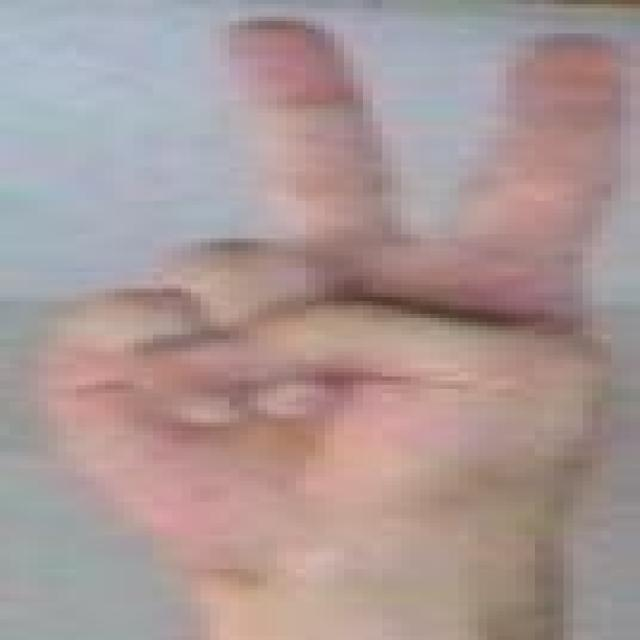V: (0, 6, 640, 640)
